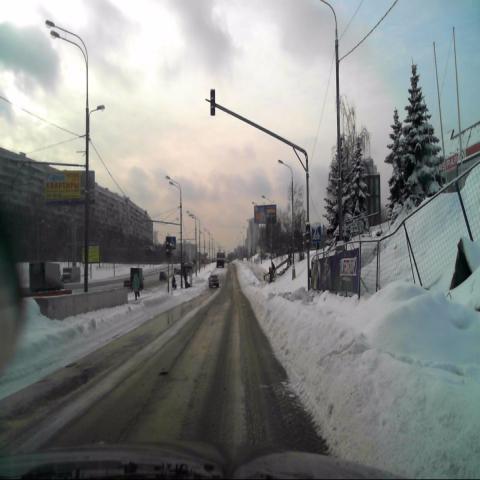5_19_1: (312, 224, 322, 243)
